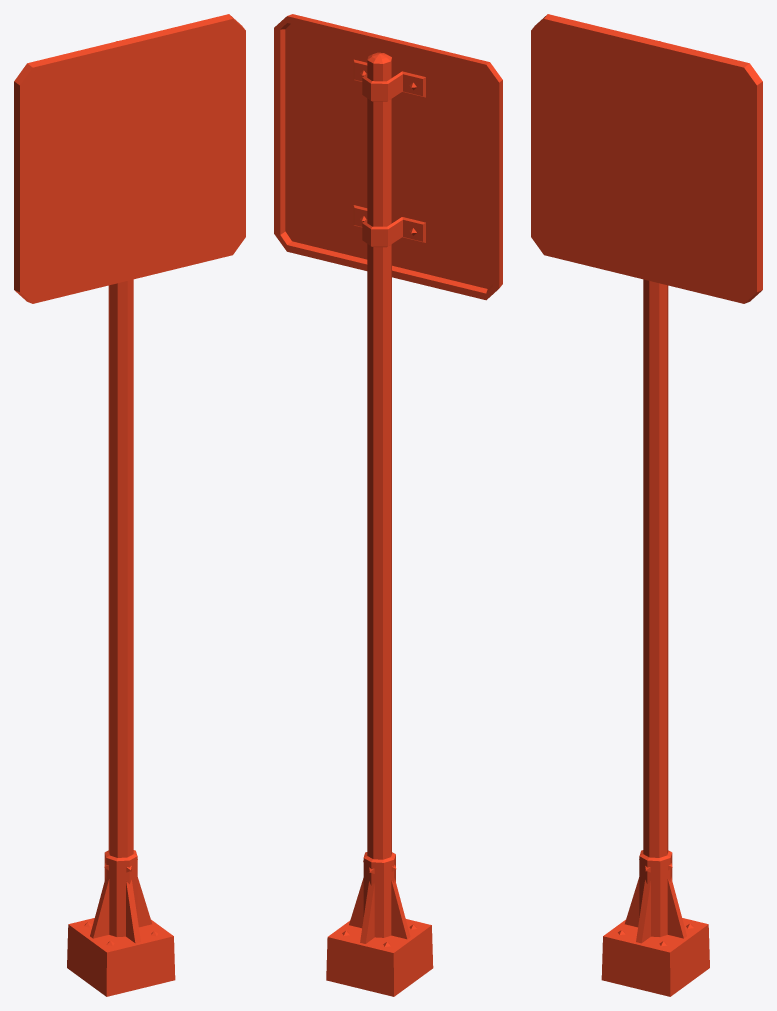
File: SM_Sign_Gasoline_B_City.fbx
3 views of the same model, side by side, from view 1: azimuth 30°, elevation 25°; view 2: azimuth 150°, elevation 25°; view 3: azimuth 330°, elevation 25° (orthographic).
Visible parts, largest first — view 1: SM_Sign_Gasoline_B_City; view 2: SM_Sign_Gasoline_B_City; view 3: SM_Sign_Gasoline_B_City.
Boxes of the visible parts, bbox=[...] form: SM_Sign_Gasoline_B_City: bbox=[14, 14, 245, 996]; SM_Sign_Gasoline_B_City: bbox=[274, 14, 502, 996]; SM_Sign_Gasoline_B_City: bbox=[531, 14, 762, 996].
Bounding box in the file's own units: 0.61 × 2.4 × 0.1839.
